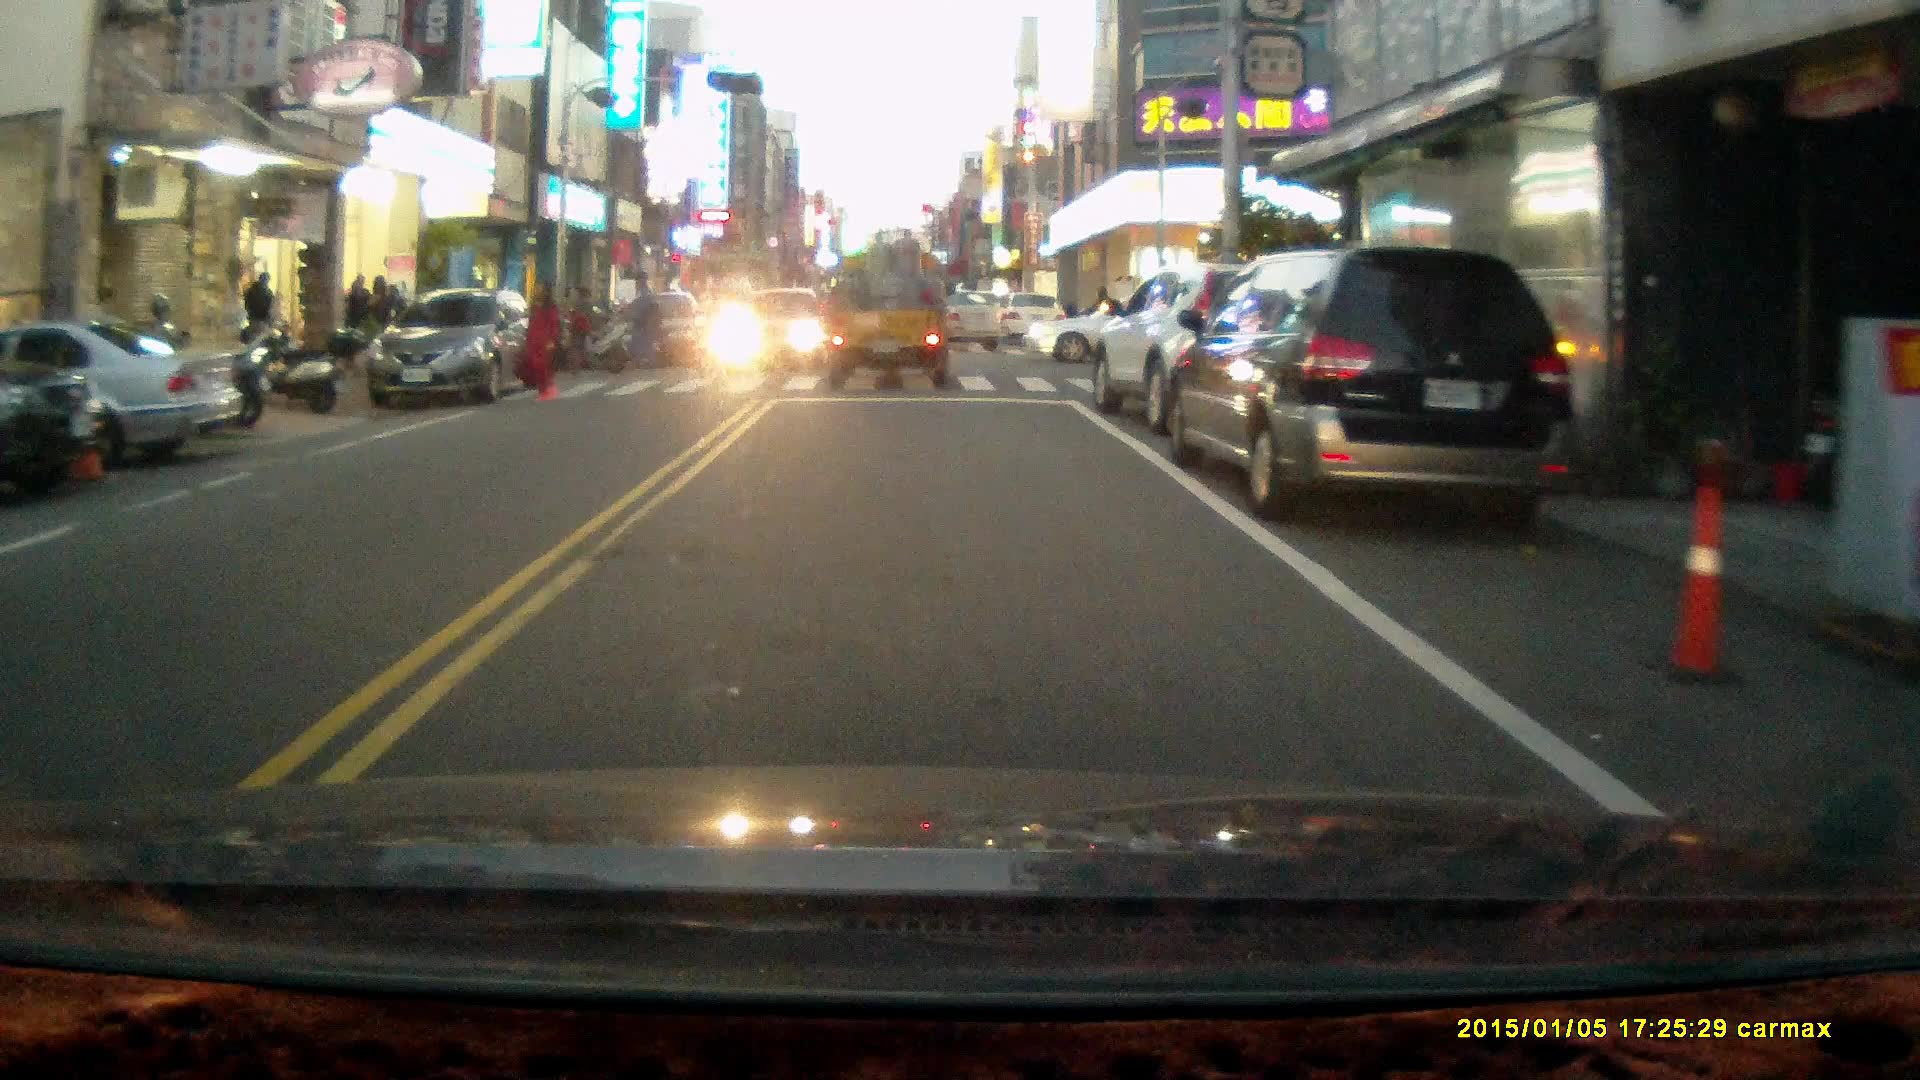pedestrian: (518, 278, 568, 407), (622, 269, 672, 372), (243, 269, 282, 365), (565, 279, 602, 374)
vehicle: (1168, 247, 1579, 534), (1087, 259, 1379, 442), (1, 319, 249, 476), (819, 229, 963, 393), (367, 289, 549, 410), (1024, 292, 1245, 369), (1, 360, 110, 484), (600, 292, 711, 374), (713, 284, 825, 364), (893, 294, 1008, 360)
